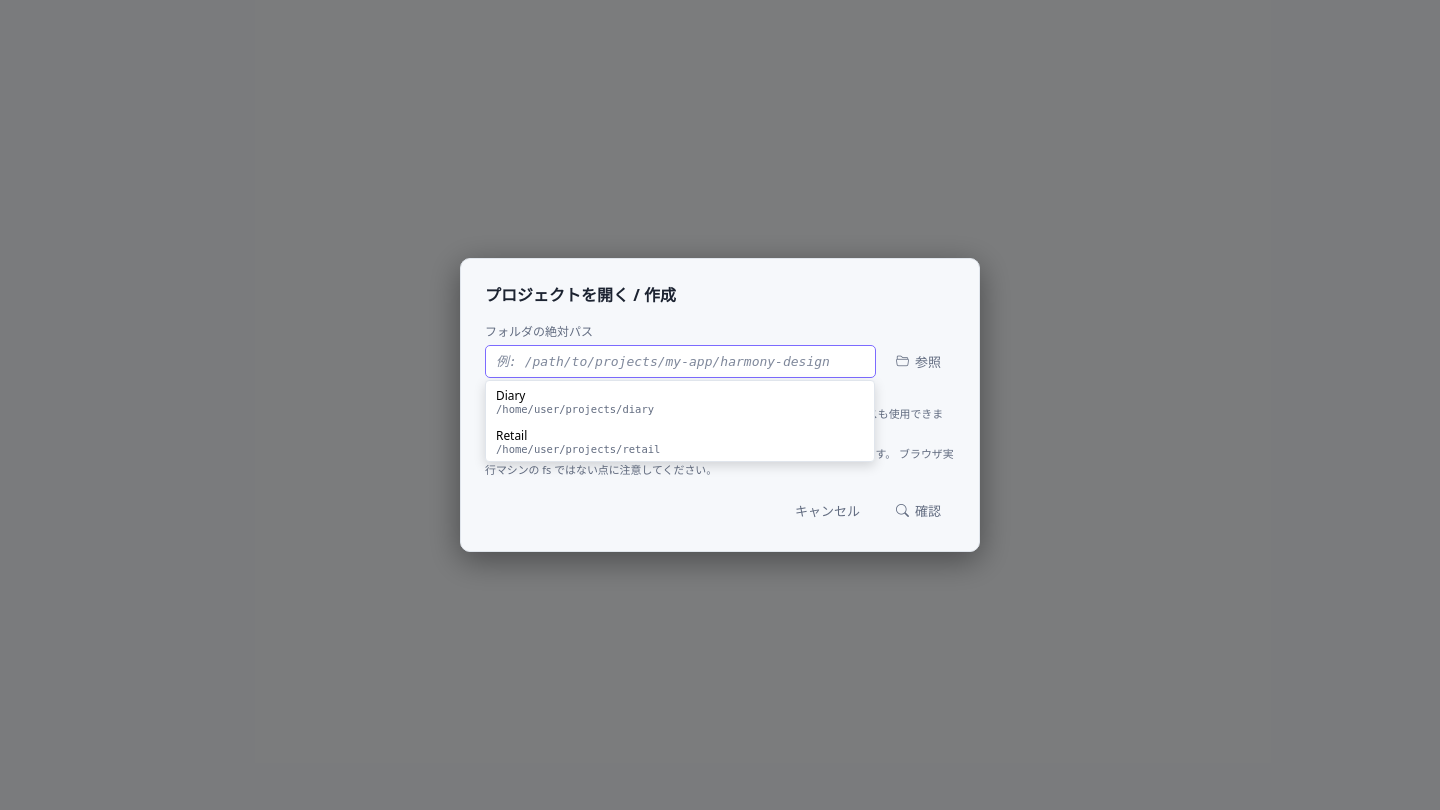
Test case: AddWorkspaceDialog (#858) › recent dropdown のエントリをクリックすると入力欄に絶対パスが入る
Focus the field with test id "workspace-path-input" at coordinates (680, 361), box [485,345,876,378]
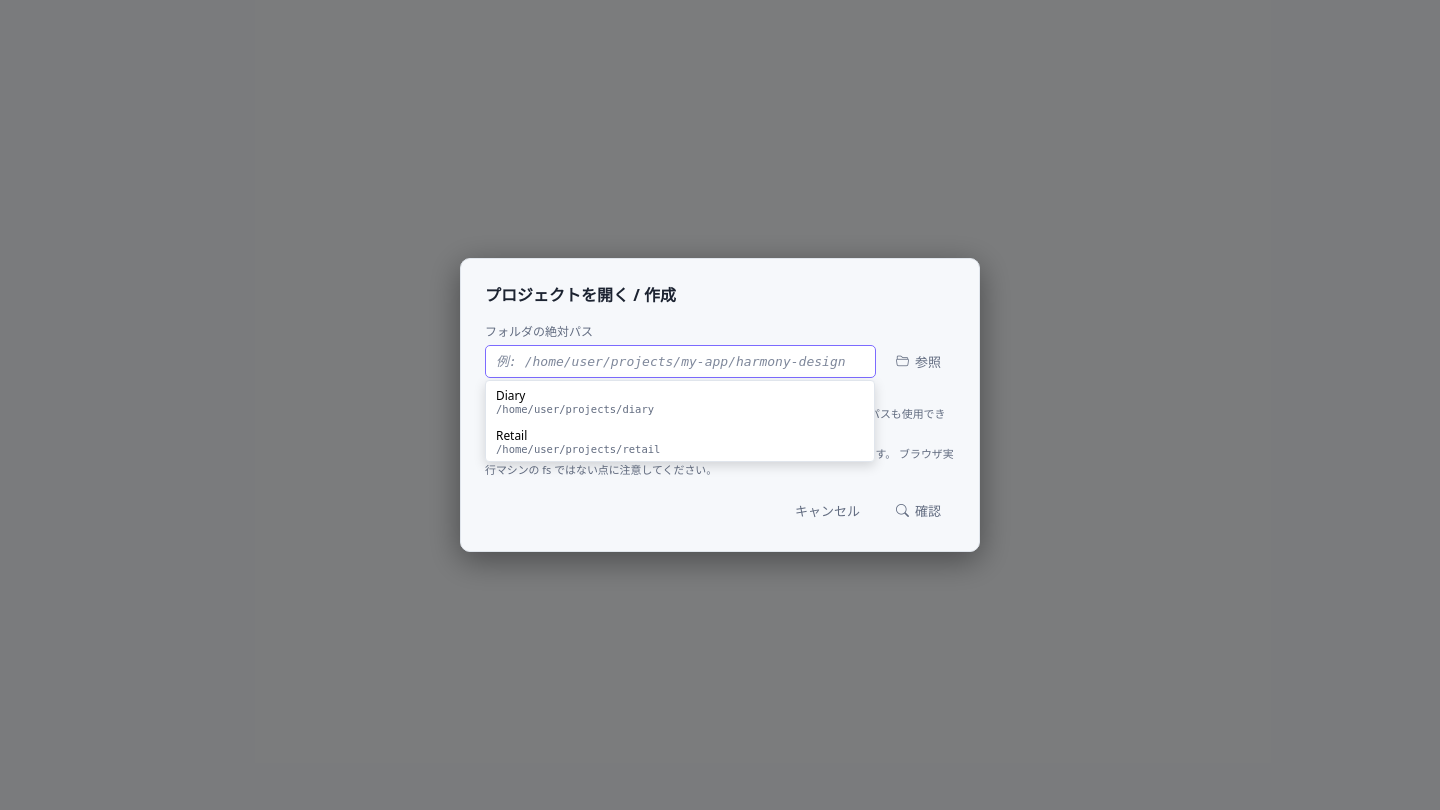
Click the text "Diary" at coordinates (511, 395), box [496,387,525,403]
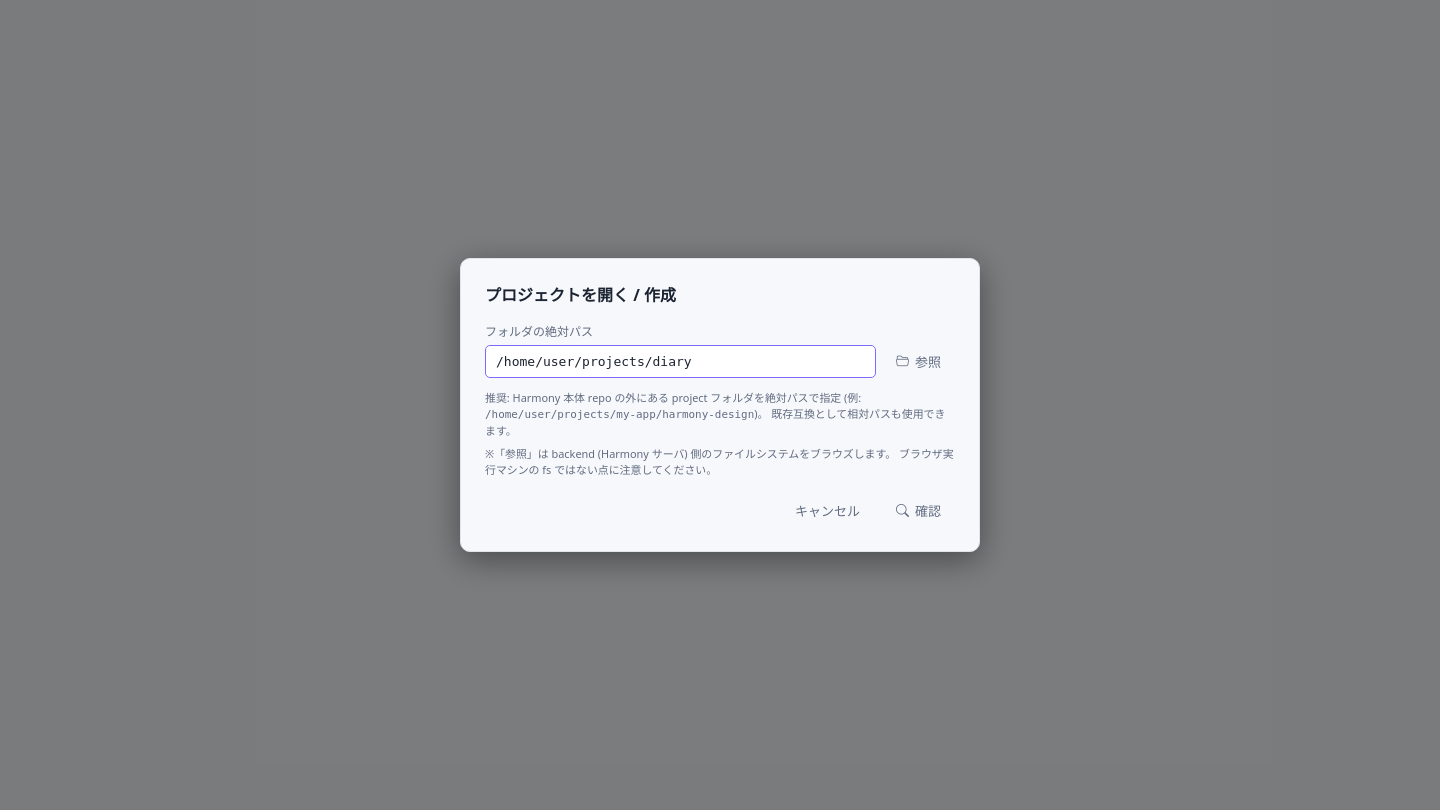
Now the field with test id "workspace-path-input" holds "/home/user/projects/diary", box [485,345,876,378]
